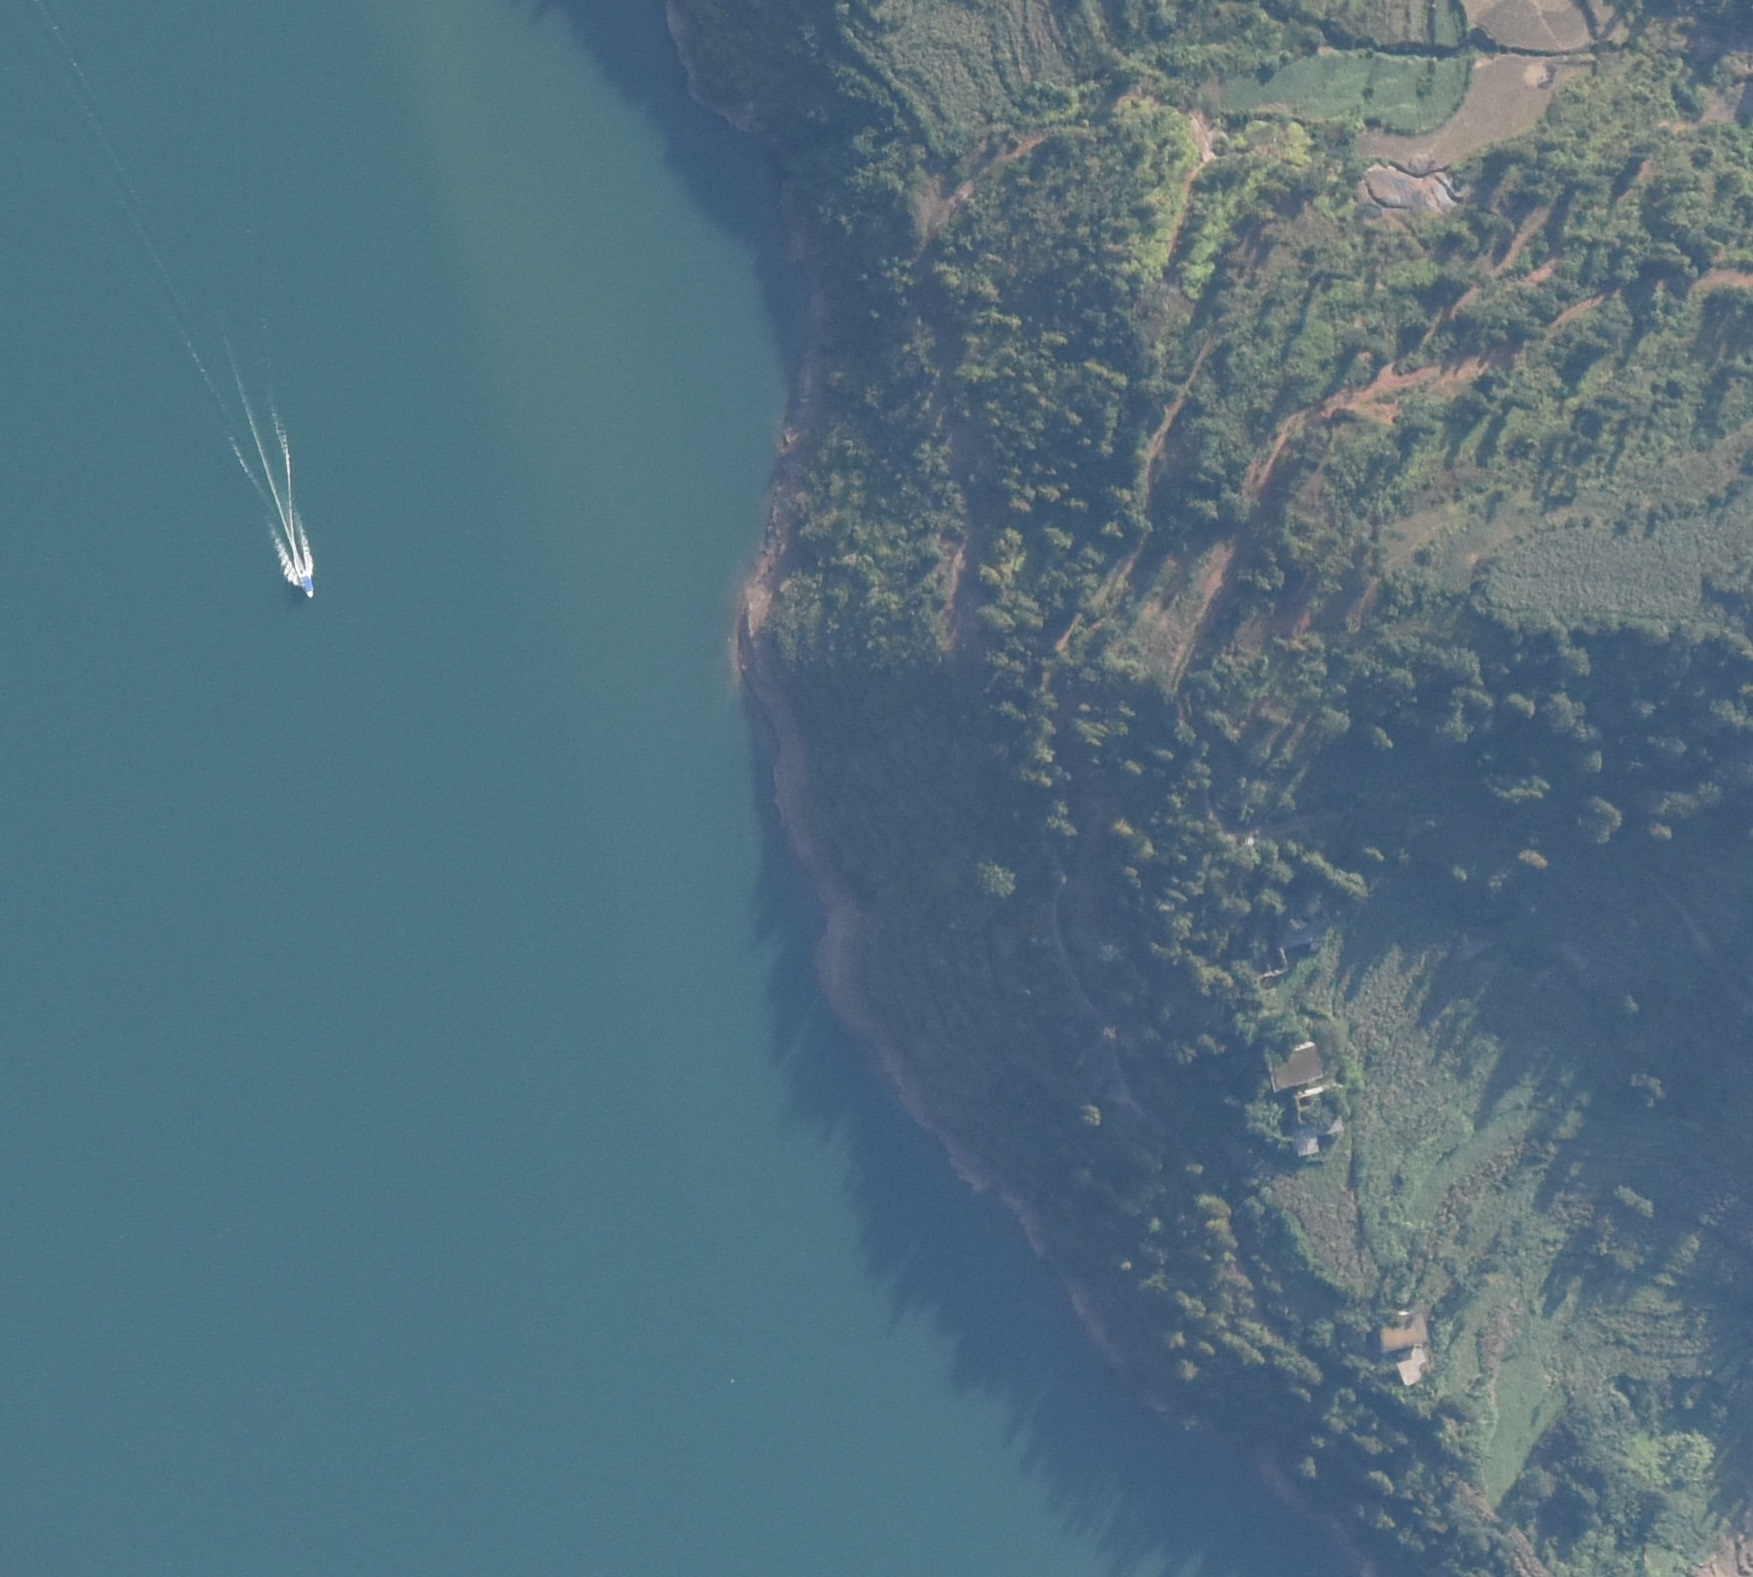building: (1376, 1306, 1432, 1389), (1290, 1086, 1348, 1157), (1268, 1041, 1323, 1089)
ship: (293, 563, 318, 602)
